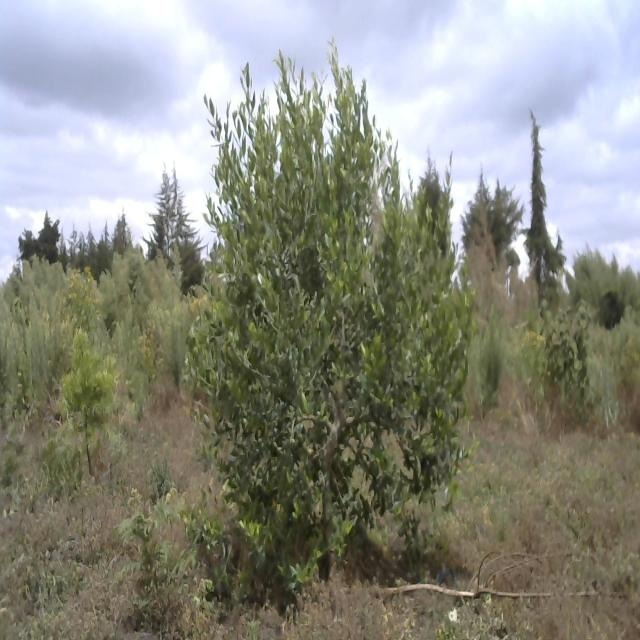Juniperus procesera: (524, 105, 568, 291), (465, 158, 518, 275), (147, 162, 202, 272), (414, 140, 455, 254), (22, 206, 64, 272), (113, 202, 133, 264), (100, 212, 110, 270)
Olea europea -africana-: (198, 48, 466, 536)
